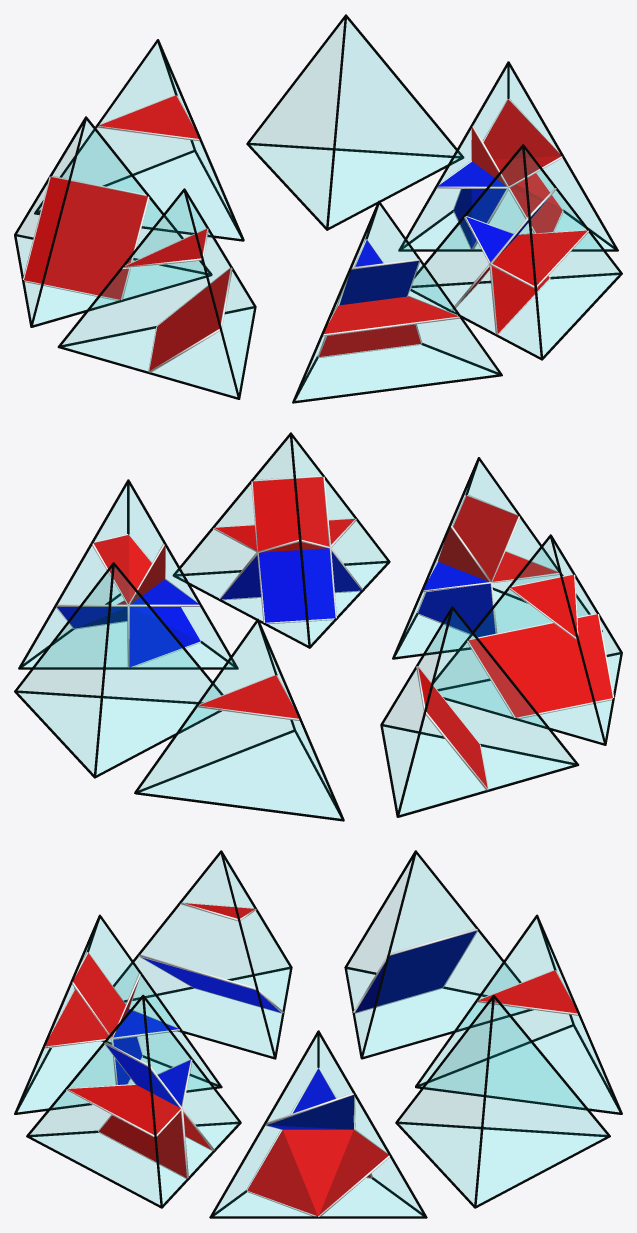
Rendered from canonical5elem.glb.
The picture shows the model from 3 angles, top to bottom: view 1: azimuth 30°, elevation 25°; view 2: azimuth 150°, elevation 25°; view 3: azimuth 270°, elevation 25°; orthographic projection.
Visible parts, largest first — view 1: windows, windows.001, windows.003, Circle, windows.002, quad, Circle.001, skeleton.004, skeleton.002, windows.004, skeleton.003, skeleton.001 (+13 smaller); view 2: windows, Circle.001, Circle, skeleton.003, skeleton.001, windows.004, skeleton.002, windows.003, windows.001, skeleton.004, windows.002, skeleton.006 (+13 smaller); view 3: windows, windows.001, Circle, Circle.001, windows.003, skeleton.004, windows.002, windows.004, skeleton.003, skeleton.002, quad, frame (+13 smaller).
Part boxes in pixels (x1,y1,x2,y2): windows: [250, 20, 458, 226]; windows.001: [63, 193, 253, 396]; windows.003: [412, 150, 618, 355]; Circle: [40, 43, 240, 238]; windows.002: [296, 205, 497, 399]; quad: [24, 177, 147, 299]; Circle.001: [17, 122, 204, 323]; skeleton.004: [438, 99, 562, 248]; skeleton.002: [319, 240, 458, 356]; windows.004: [404, 67, 613, 248]; skeleton.003: [461, 198, 586, 333]; skeleton.001: [124, 229, 230, 370]; windows: [18, 568, 220, 773]; Circle.001: [383, 611, 573, 814]; Circle: [139, 623, 340, 817]; skeleton.003: [215, 477, 361, 622]; skeleton.001: [468, 575, 612, 717]; windows.004: [23, 485, 232, 666]; skeleton.002: [418, 495, 558, 636]; windows.003: [178, 438, 386, 644]; windows.001: [434, 539, 619, 741]; skeleton.004: [57, 535, 200, 667]; windows.002: [396, 461, 587, 656]; skeleton.006: [380, 606, 579, 817]; windows: [399, 1000, 605, 1204]; windows.001: [115, 855, 289, 1055]; Circle: [420, 919, 618, 1111]; Circle.001: [347, 855, 525, 1055]; windows.003: [31, 1000, 237, 1204]; skeleton.004: [247, 1068, 388, 1216]; windows.002: [18, 919, 217, 1111]; windows.004: [215, 1036, 421, 1215]; skeleton.003: [68, 1045, 211, 1177]; skeleton.002: [46, 953, 178, 1084]; quad: [355, 931, 476, 1012]; frame: [395, 994, 610, 1208].
Bounding box in the file's own units: 4.77 × 1.43 × 4.89.
